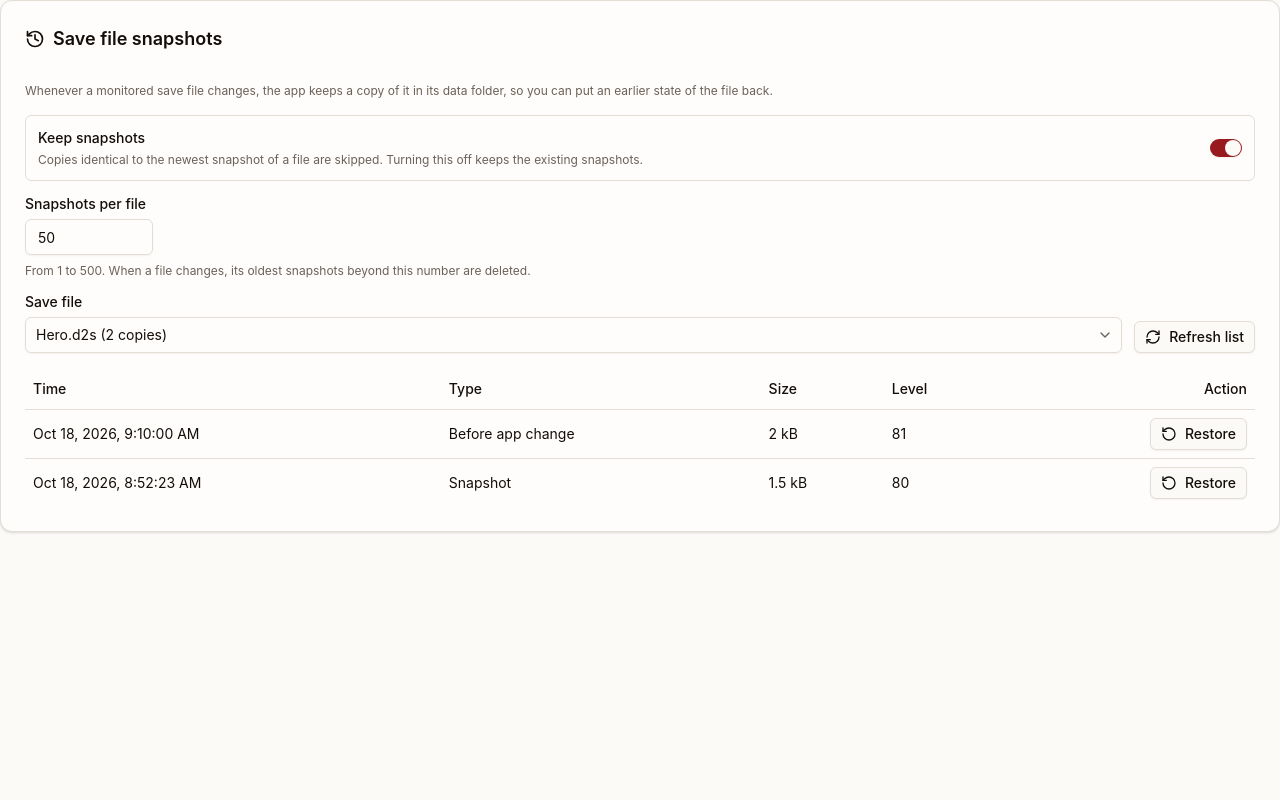
Scenario: When the save file snapshots card is shown › If the restore dialog is canceled, Then nothing is restored
Click the button with aria-label "Restore Hero.d2s from".
click(1198, 434)  # box left=1150, top=418, right=1247, bottom=450
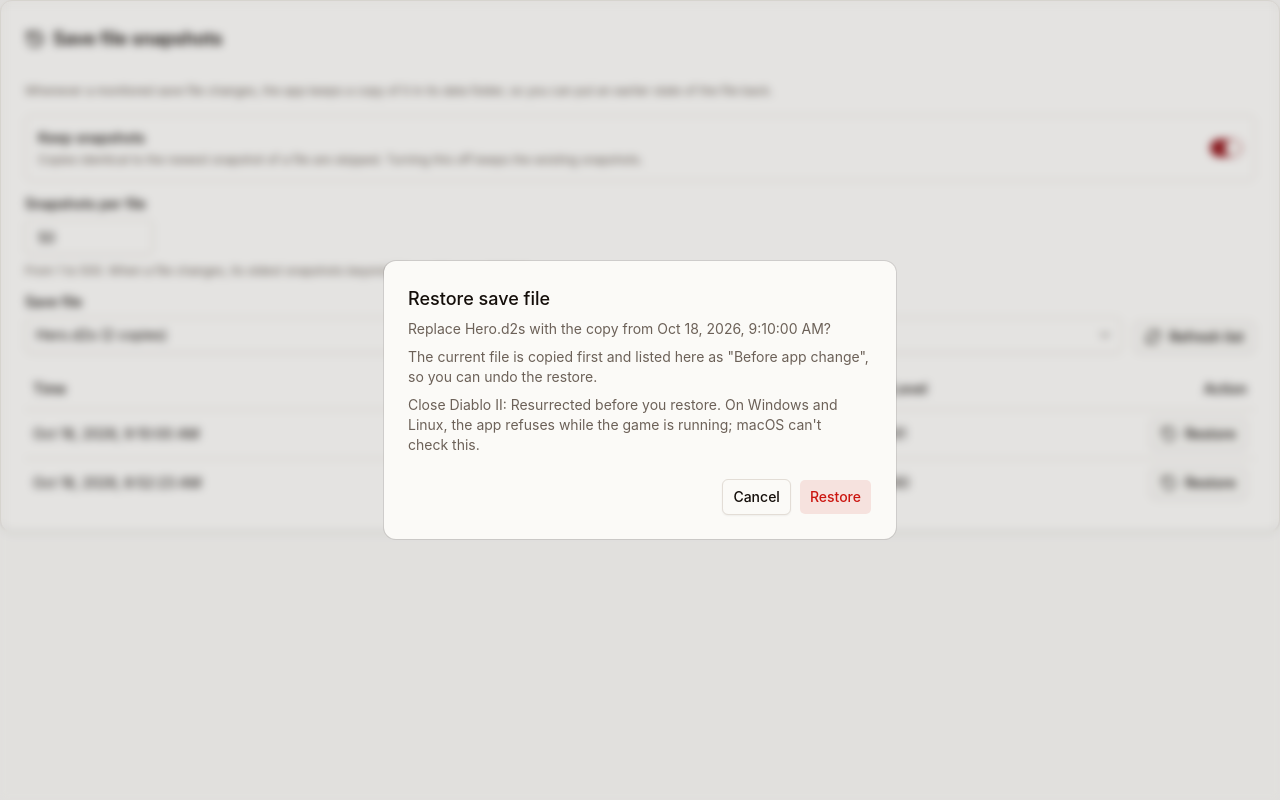
Click the button "Cancel".
click(757, 497)  # box left=722, top=479, right=791, bottom=515
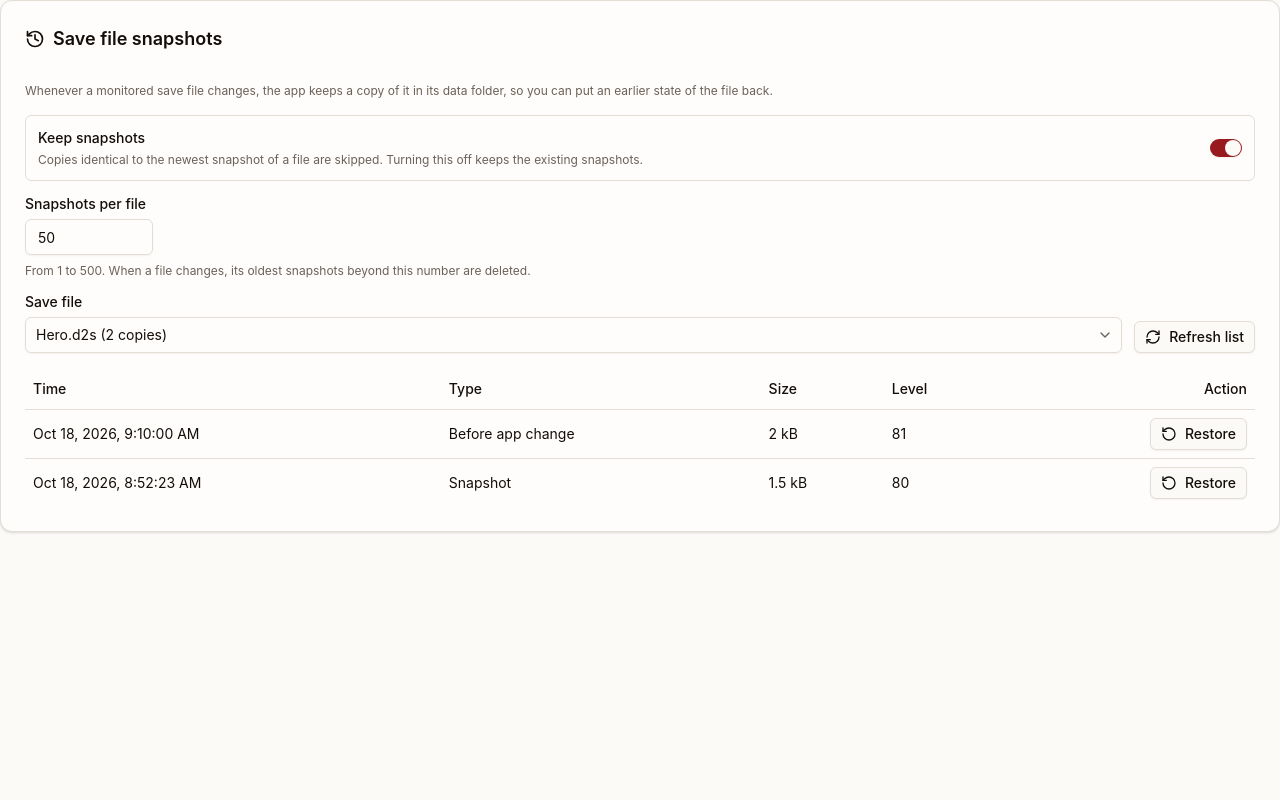
Check: the dialog is gone
